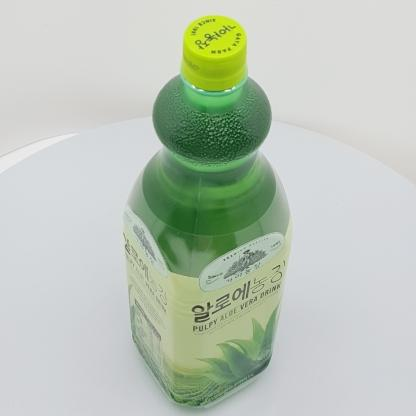-------1-5L: (123, 15, 293, 409)
